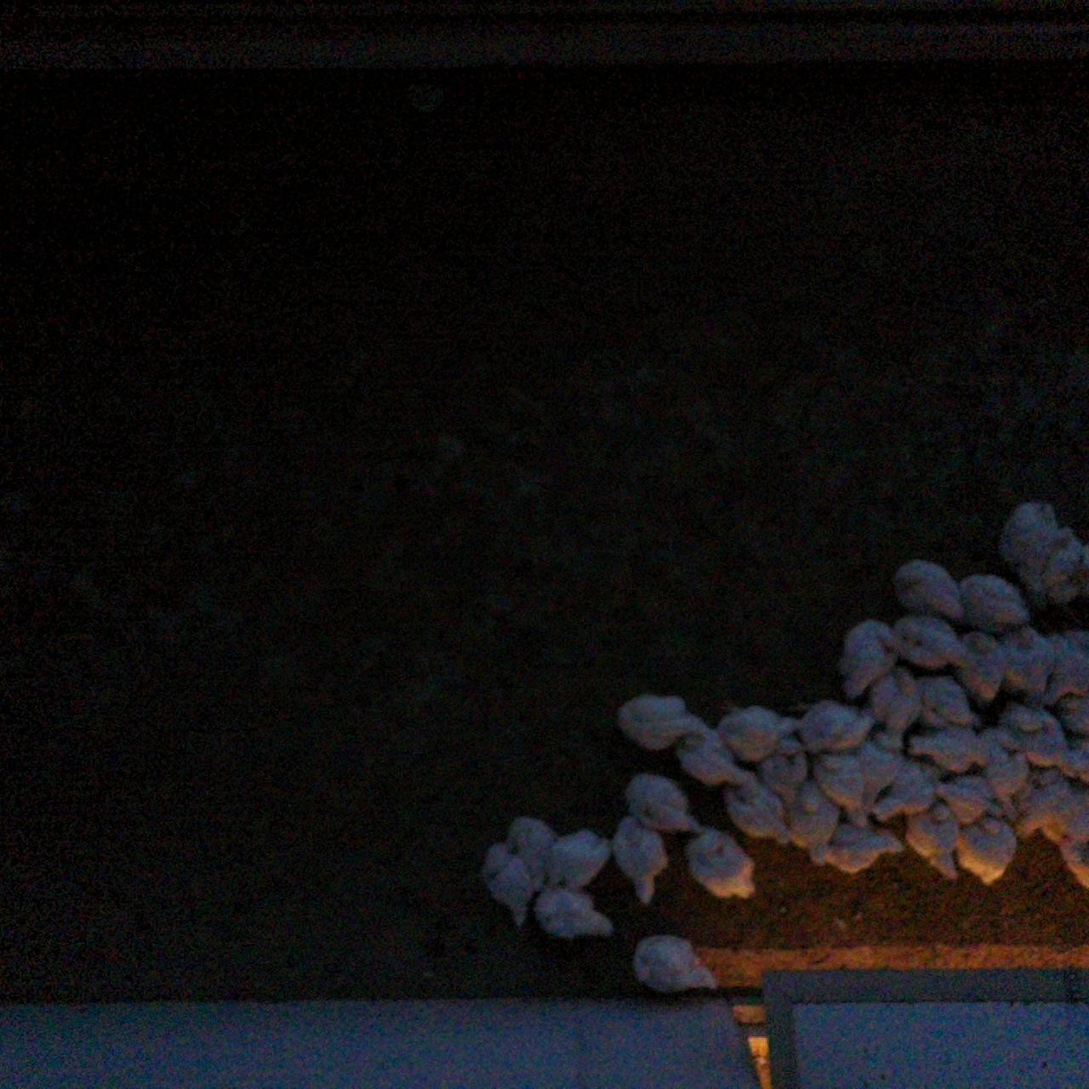chicken: (633, 930, 717, 998), (676, 717, 749, 793), (481, 839, 543, 928), (614, 692, 696, 756), (529, 883, 615, 944), (811, 822, 904, 878), (686, 829, 759, 899), (838, 618, 903, 696), (718, 703, 799, 765), (611, 819, 671, 902), (951, 814, 1019, 887), (623, 768, 699, 832), (544, 822, 613, 892), (1000, 497, 1063, 571), (1023, 531, 1089, 600), (899, 812, 960, 886), (867, 664, 919, 750), (797, 701, 875, 758), (784, 783, 838, 865), (956, 572, 1029, 632), (1034, 627, 1089, 706), (890, 557, 961, 618), (896, 613, 971, 670), (877, 759, 944, 822), (1017, 784, 1089, 842), (938, 776, 1003, 839), (908, 727, 991, 776), (726, 779, 789, 843), (911, 667, 972, 733), (503, 815, 559, 885), (984, 738, 1034, 816), (818, 755, 871, 827), (955, 631, 1007, 703), (1004, 706, 1062, 768), (994, 633, 1051, 695), (760, 746, 810, 809), (861, 745, 904, 800), (1057, 825, 1089, 887), (1051, 691, 1089, 742), (1053, 746, 1089, 788)
